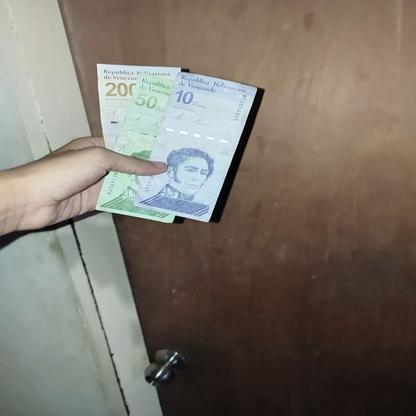fifty-front-vef: (94, 73, 175, 224)
ten-front-vef: (132, 71, 258, 223)
two_hundred-front-vef: (96, 65, 180, 152)
